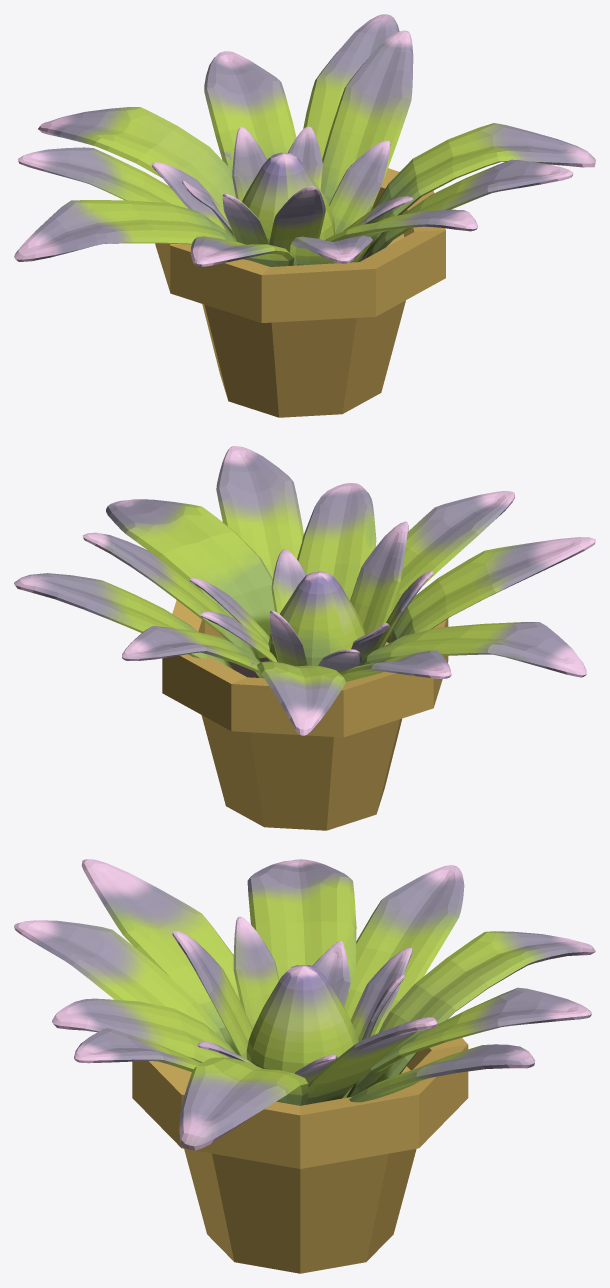
Rendered from model_plant1_basic.fbx.
3 views of the same model, one above another, from view 1: azimuth 30°, elevation 25°; view 2: azimuth 150°, elevation 25°; view 3: azimuth 270°, elevation 25° (orthographic). The views are drawn at different scales.
Visible parts, largest first — view 1: SM_Leaves, SM_Pot, SM_bud; view 2: SM_Leaves, SM_Pot, SM_bud; view 3: SM_Leaves, SM_Pot, SM_bud.
Boxes of the visible parts, <box> form: SM_Leaves: <box>14,14,595,266</box>; SM_Pot: <box>155,168,445,417</box>; SM_bud: <box>242,152,334,244</box>; SM_Leaves: <box>14,446,595,735</box>; SM_Pot: <box>162,600,448,830</box>; SM_bud: <box>268,571,365,665</box>; SM_Leaves: <box>14,859,595,1150</box>; SM_Pot: <box>132,1038,468,1273</box>; SM_bud: <box>246,965,358,1098</box>.
Size of the model in its own units: 2.51 by 1.22 by 2.13.
